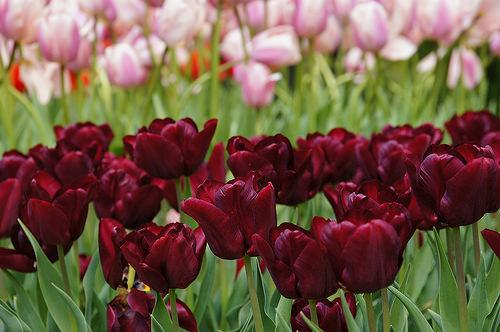tulip: (313, 203, 415, 291), (183, 173, 278, 258), (410, 141, 499, 223), (252, 224, 338, 299), (117, 225, 207, 287), (128, 117, 220, 174)
